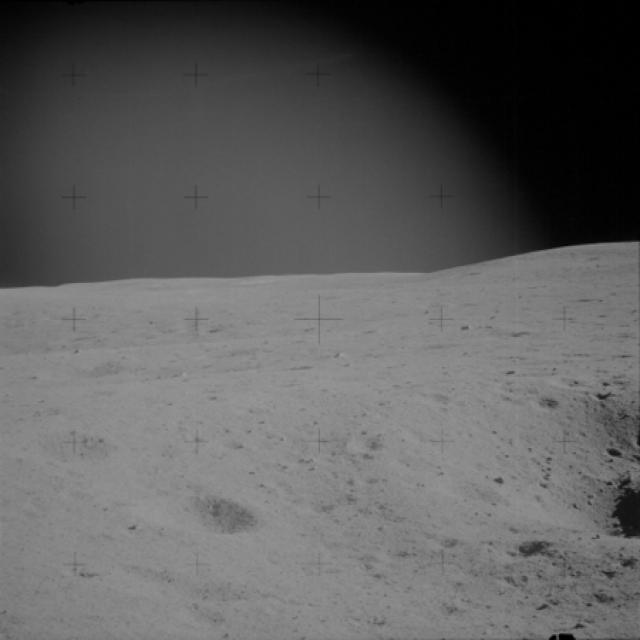crater: (342, 362, 638, 572), (113, 484, 273, 557), (0, 414, 144, 493), (25, 344, 136, 388), (190, 579, 265, 613), (190, 336, 268, 367), (346, 421, 394, 461), (496, 536, 550, 571), (43, 555, 95, 587), (426, 590, 466, 626), (417, 380, 460, 410), (280, 356, 324, 381), (524, 390, 568, 413), (603, 436, 631, 466), (190, 318, 230, 338)
